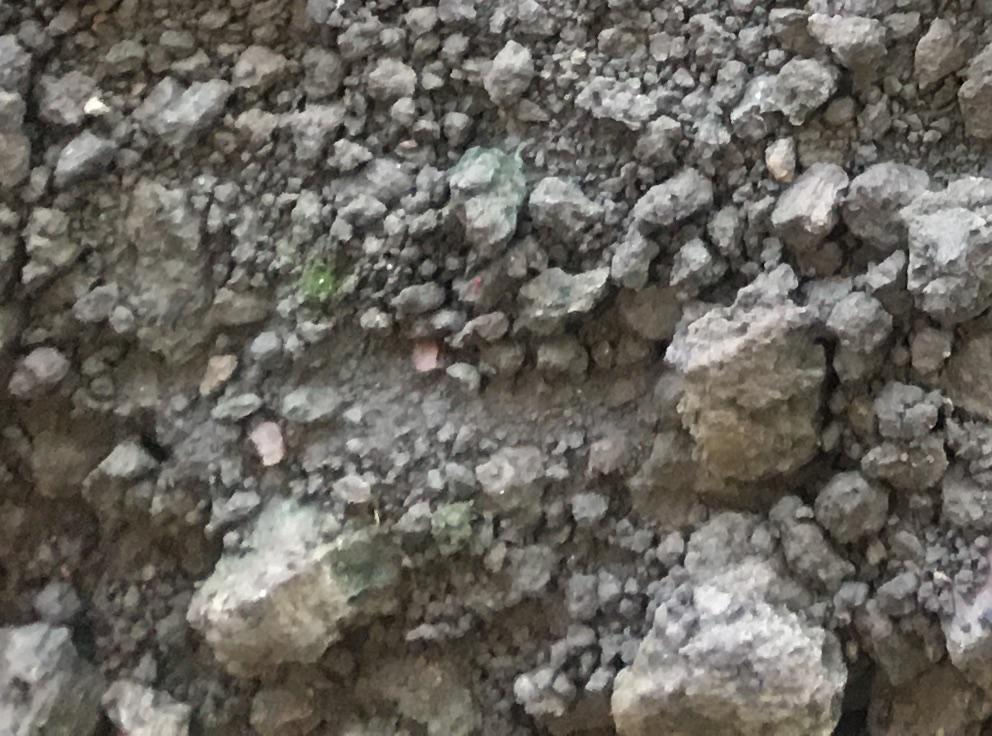block: (613, 552, 855, 736), (182, 486, 397, 677), (678, 294, 837, 489), (898, 172, 990, 325)
